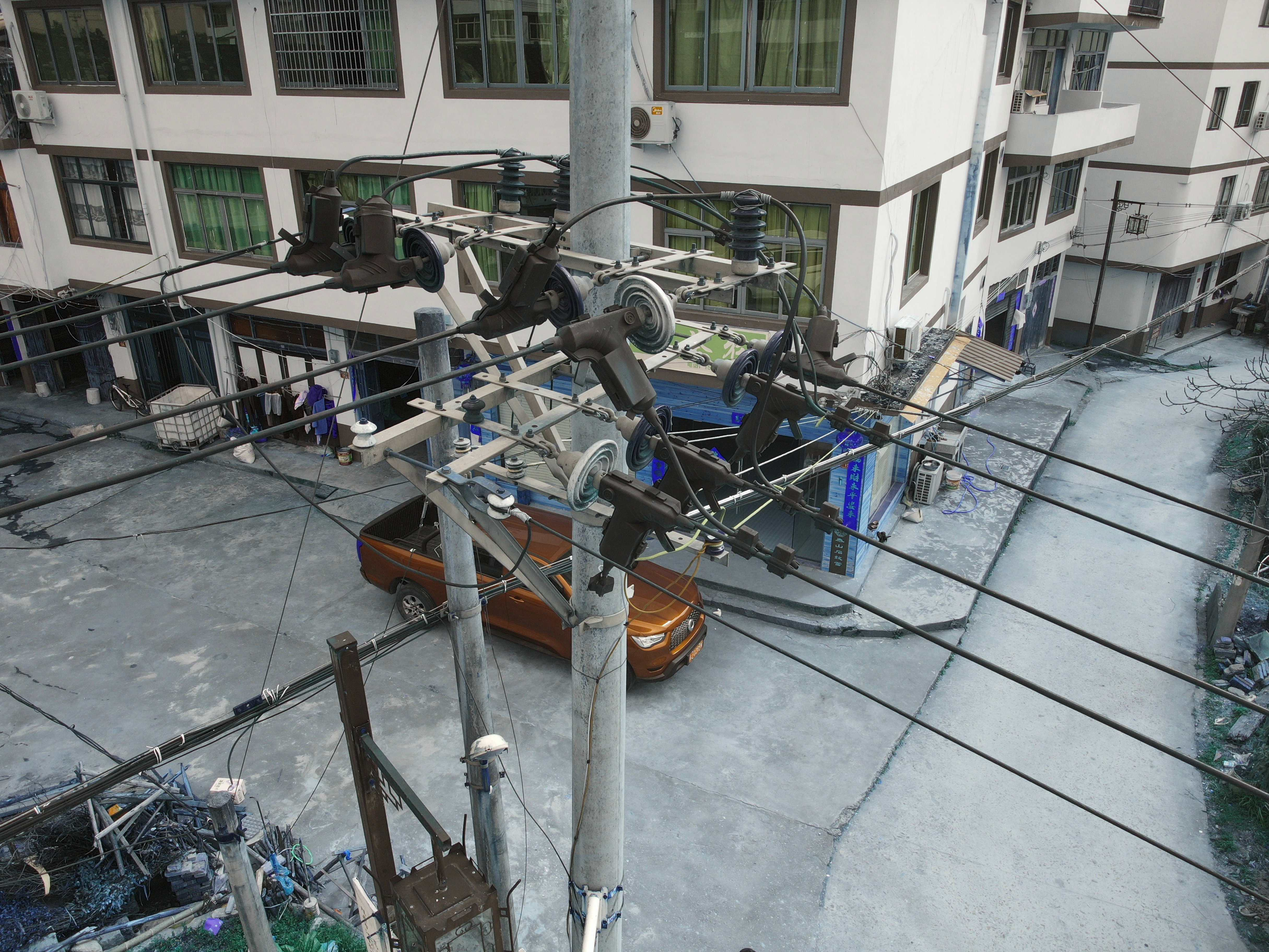severe_soiling_no_discharge_whole: (609, 273, 676, 354), (558, 438, 618, 512), (503, 455, 526, 479), (452, 436, 471, 456)
